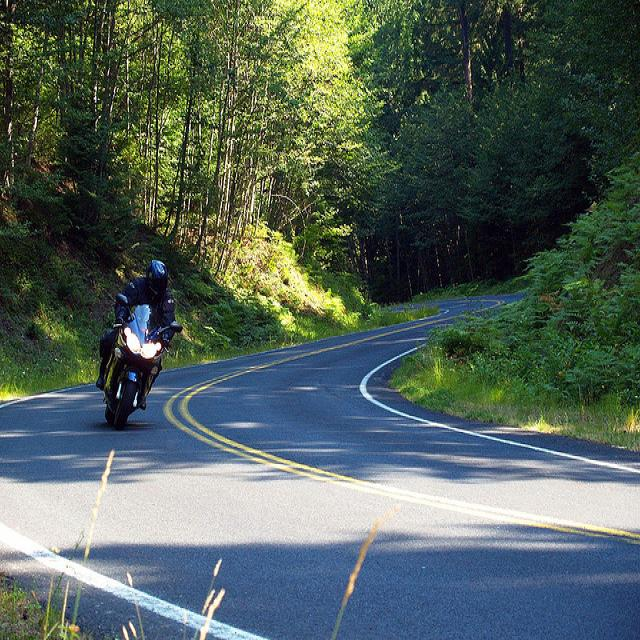motor: (101, 292, 185, 423)
